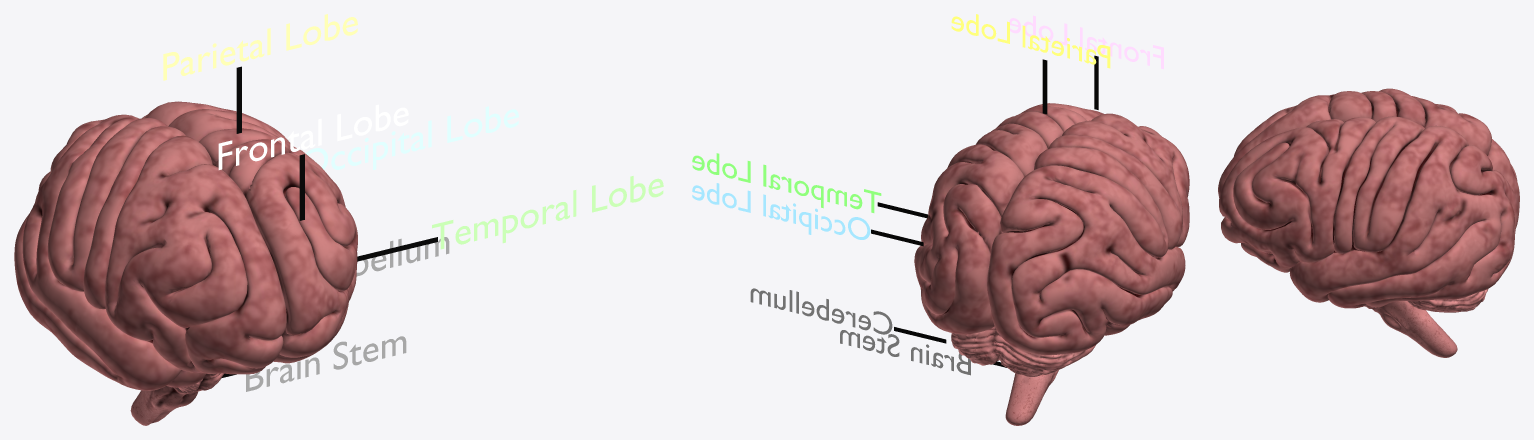
Rendered from brain.glb.
3 renders of one model, left to right at view 1: azimuth 30°, elevation 25°; view 2: azimuth 150°, elevation 25°; view 3: azimuth 270°, elevation 25°, orthographic. The views are drawn at different scales.
Parts seen in each view (by area): view 1: BRAIN_LOW_3, Text.008_26, BRAIN_1, Text.010_28, Text.011_29, Text.007_25, Text.006_24, Text.009_27; view 2: BRAIN_LOW_3, cerebellum_5, BRAIN_1, Text.008_26, Text.010_28, Text.011_29, Text.009_27, Text.007_25, Text.006_24; view 3: BRAIN_LOW_3, BRAIN_1, cerebellum_5.
Boxes of the visible parts, box(x1,y1,x2,y2) form: BRAIN_LOW_3: box(14, 101, 357, 390); Text.008_26: box(432, 176, 663, 249); BRAIN_1: box(130, 373, 223, 425); Text.010_28: box(305, 106, 518, 169); Text.011_29: box(163, 14, 357, 80); Text.007_25: box(218, 104, 408, 169); Text.006_24: box(246, 336, 406, 391); Text.009_27: box(356, 237, 449, 276); BRAIN_LOW_3: box(914, 103, 1189, 355); cerebellum_5: box(951, 326, 1095, 376); BRAIN_1: box(1005, 370, 1058, 425); Text.008_26: box(692, 153, 881, 212); Text.010_28: box(692, 183, 870, 239); Text.011_29: box(951, 14, 1110, 68); Text.009_27: box(750, 288, 892, 334); Text.007_25: box(1009, 15, 1163, 69); Text.006_24: box(840, 330, 970, 375); BRAIN_LOW_3: box(1218, 88, 1519, 308); BRAIN_1: box(1364, 301, 1457, 357); cerebellum_5: box(1407, 289, 1488, 312).
Size of the model in its own units: 9.64 by 6.59 by 5.55.
Materials: 9 (3 with a texture image).
